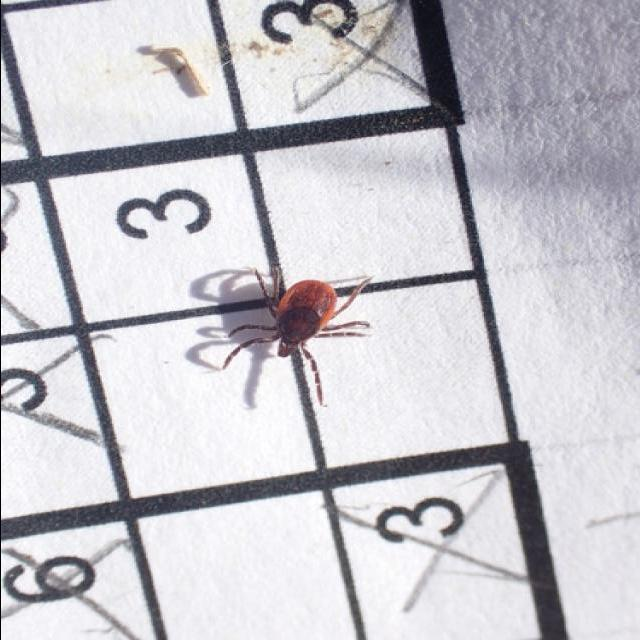Ixodes Ricinus-F: (220, 266, 370, 407)
